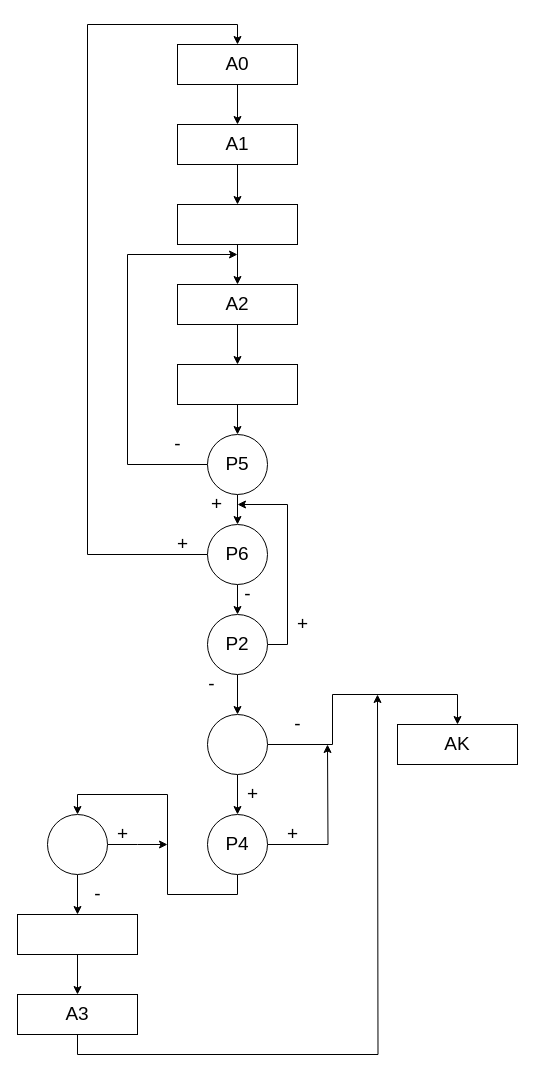
This 535x1080 diagram has some shape labels left out. The shapes that lost their labels are listed below. From the top down, each one's centre as x and y in pixels, then its label:
At point (237, 224): "A4".
At point (237, 384): "A5".
At point (237, 744): "P1".
At point (77, 844): "P3".
At point (77, 934): "A6".
